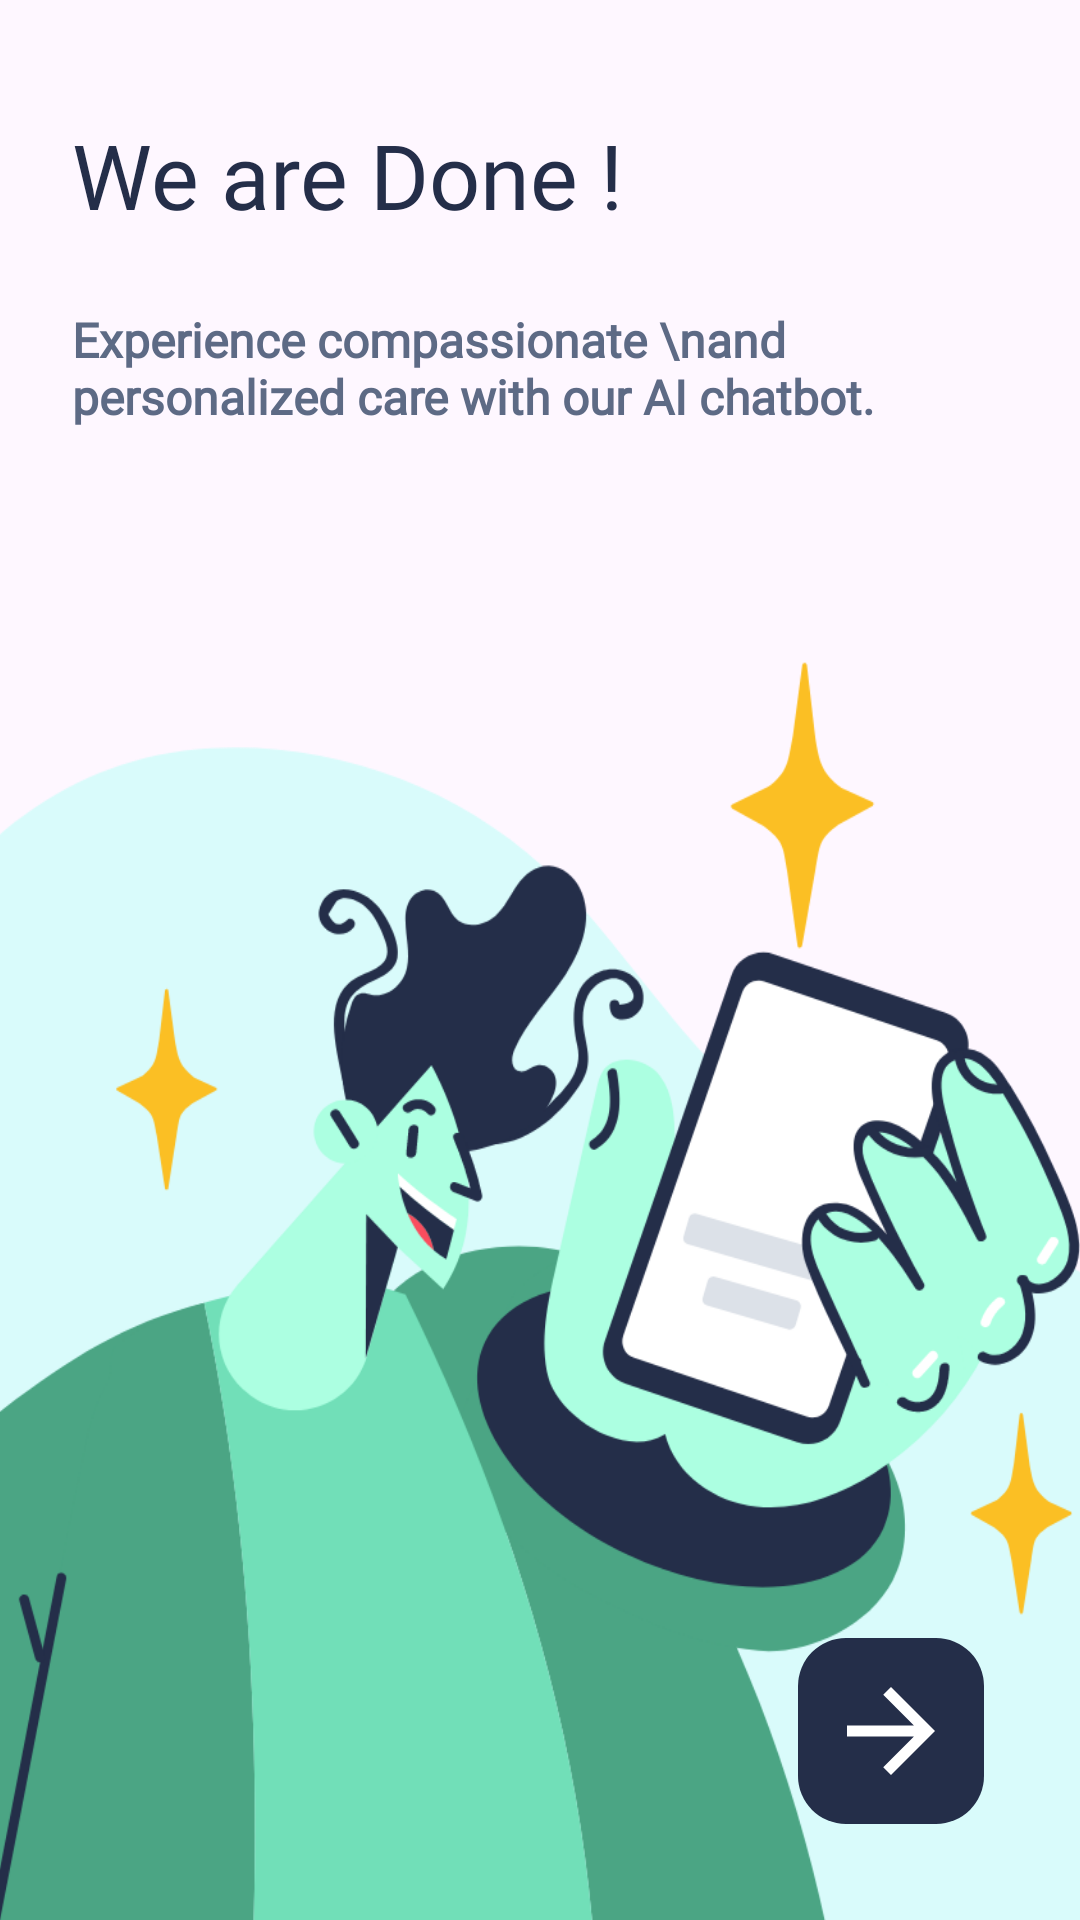

Icons on this 1080px x 1920px Android screen, each with its box as (x1, y1, x2, y2):
next: (798, 1638, 984, 1824)
